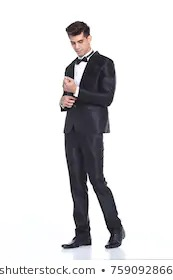F_M_suit jacket: (59, 51, 117, 133)
F_dress pants: (62, 128, 125, 240)
